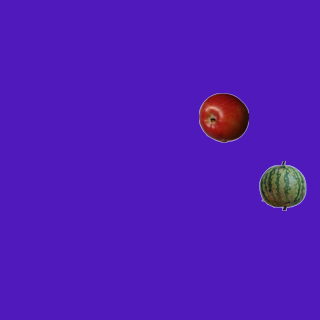Apple Braeburn: (198, 92, 248, 142)
Watermelon: (257, 160, 307, 210)
